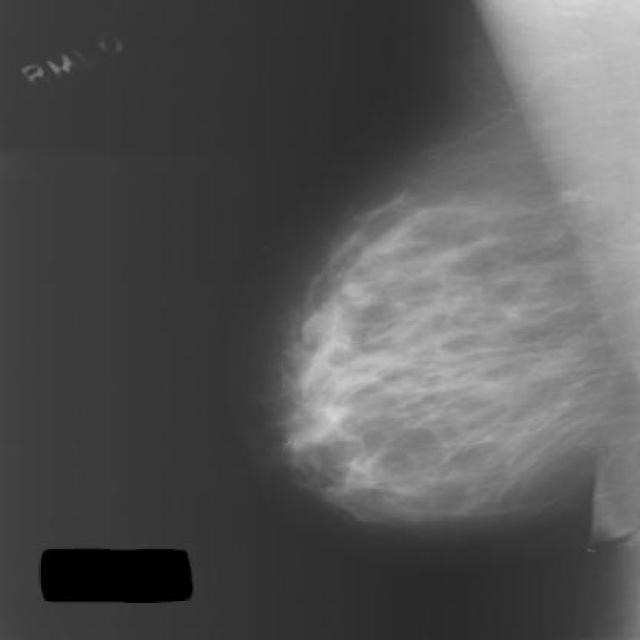tumor: (290, 235, 556, 494)
